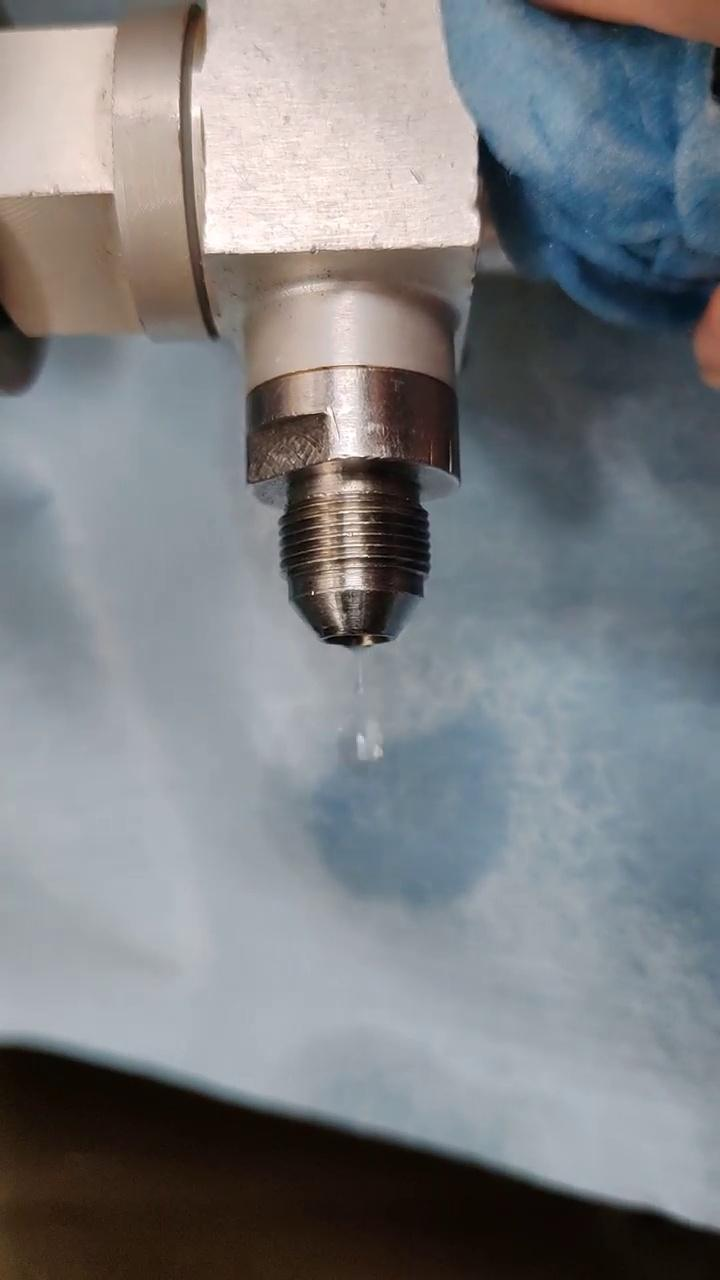water drop: (340, 718, 385, 768), (345, 642, 371, 694)
